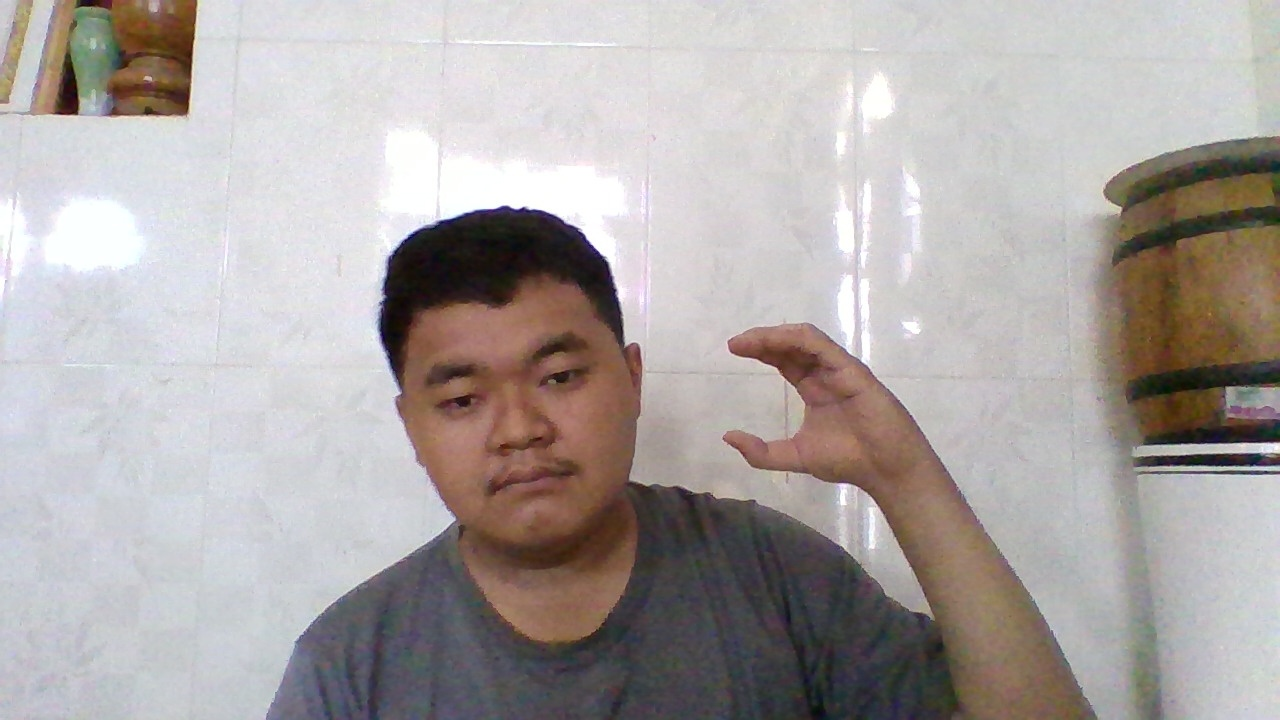C: (719, 316, 908, 489)
